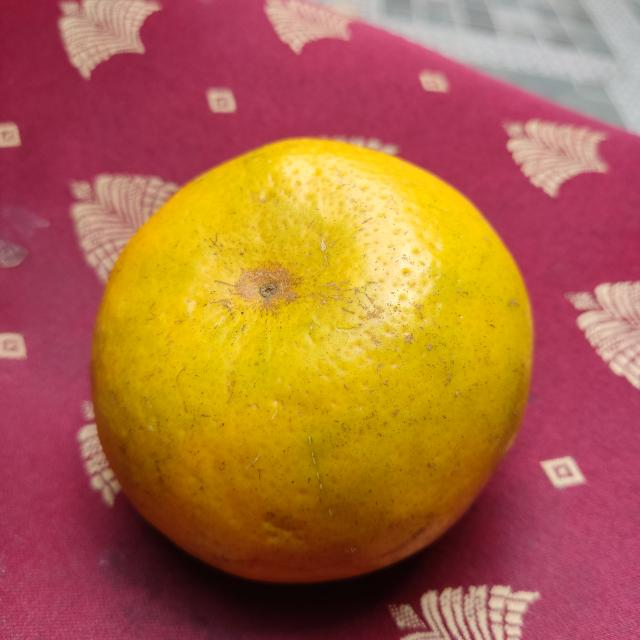orange: (84, 134, 536, 587)
